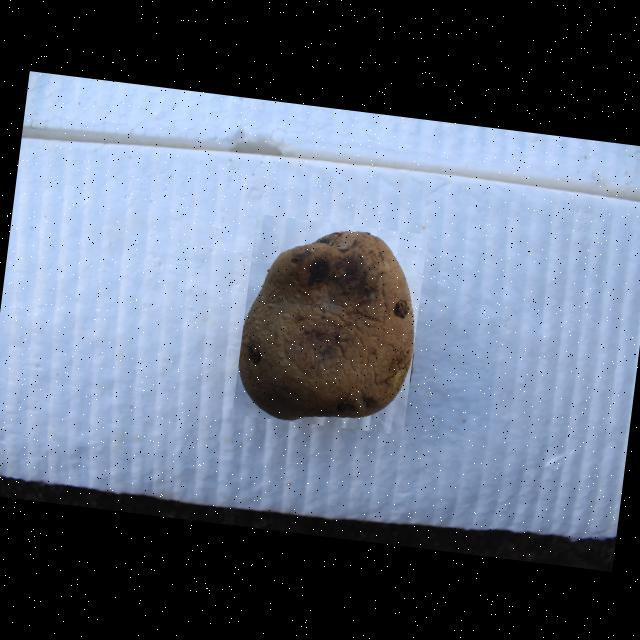Diseased-fungal potato: (231, 212, 426, 433)
